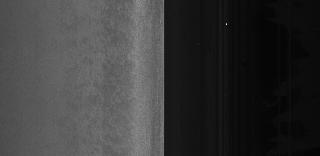silk spot: (94, 36, 140, 114)
